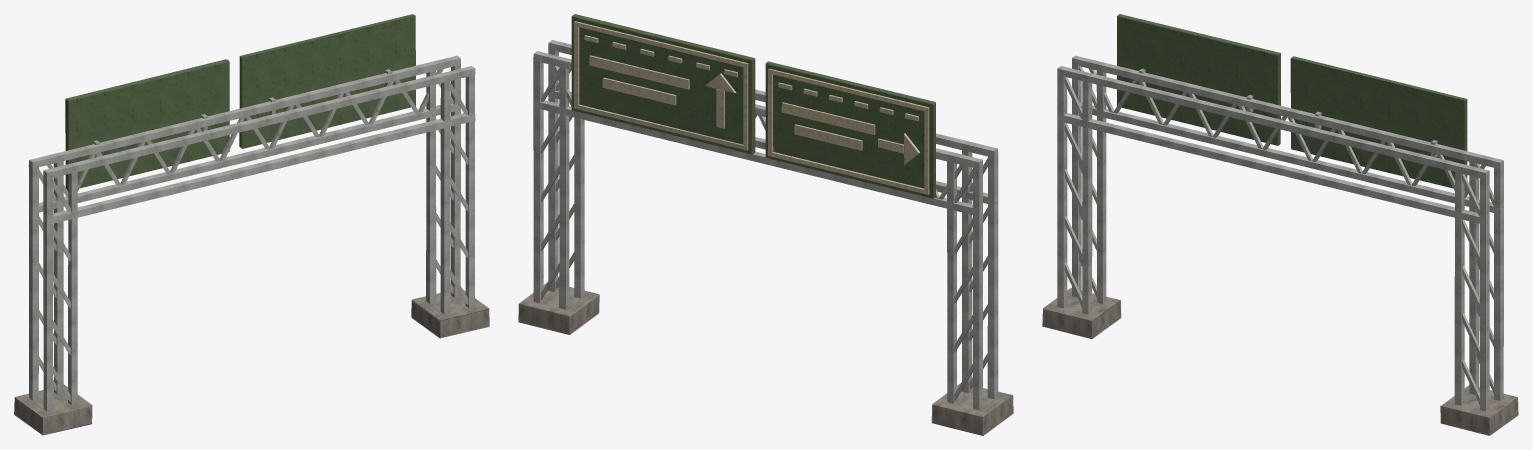
Rendered from longstitch_highway_sign.glb.
3 renders of one model, left to right at view 1: azimuth 30°, elevation 25°; view 2: azimuth 150°, elevation 25°; view 3: azimuth 330°, elevation 25°, orthographic. The views are drawn at different scales.
Parts seen in each view (by area): view 1: LongstitchHighwaySign; view 2: LongstitchHighwaySign; view 3: LongstitchHighwaySign.
Part boxes in pixels (bbox=[...]): LongstitchHighwaySign: bbox=[14, 14, 489, 435]; LongstitchHighwaySign: bbox=[518, 14, 1013, 435]; LongstitchHighwaySign: bbox=[1042, 14, 1518, 435].
Size of the model in its own units: 10.09 by 6.6 by 1.14.
Materials: 4 (4 with a texture image).
